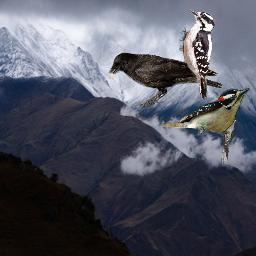Crow: (107, 52, 223, 108)
Cuckoo: (221, 119, 237, 163)
Woodpecker: (162, 86, 250, 136), (179, 9, 216, 102)
